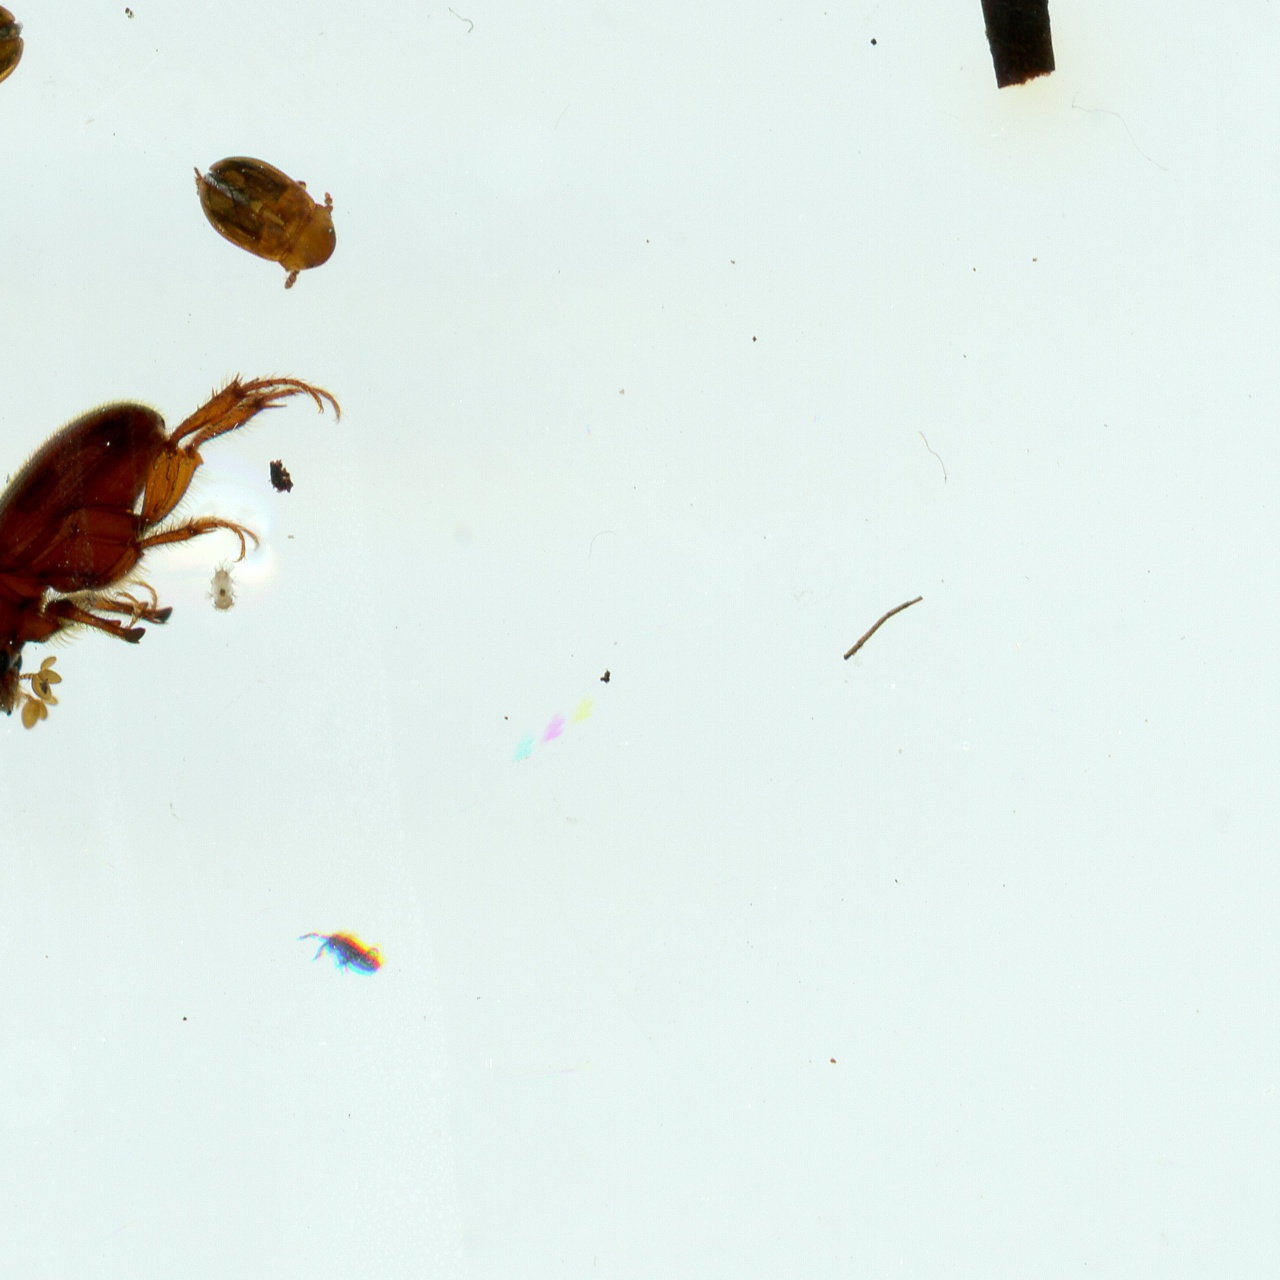arthropod: (0, 346, 348, 765), (180, 136, 355, 298), (294, 923, 403, 980), (0, 0, 39, 117), (195, 554, 242, 618)
